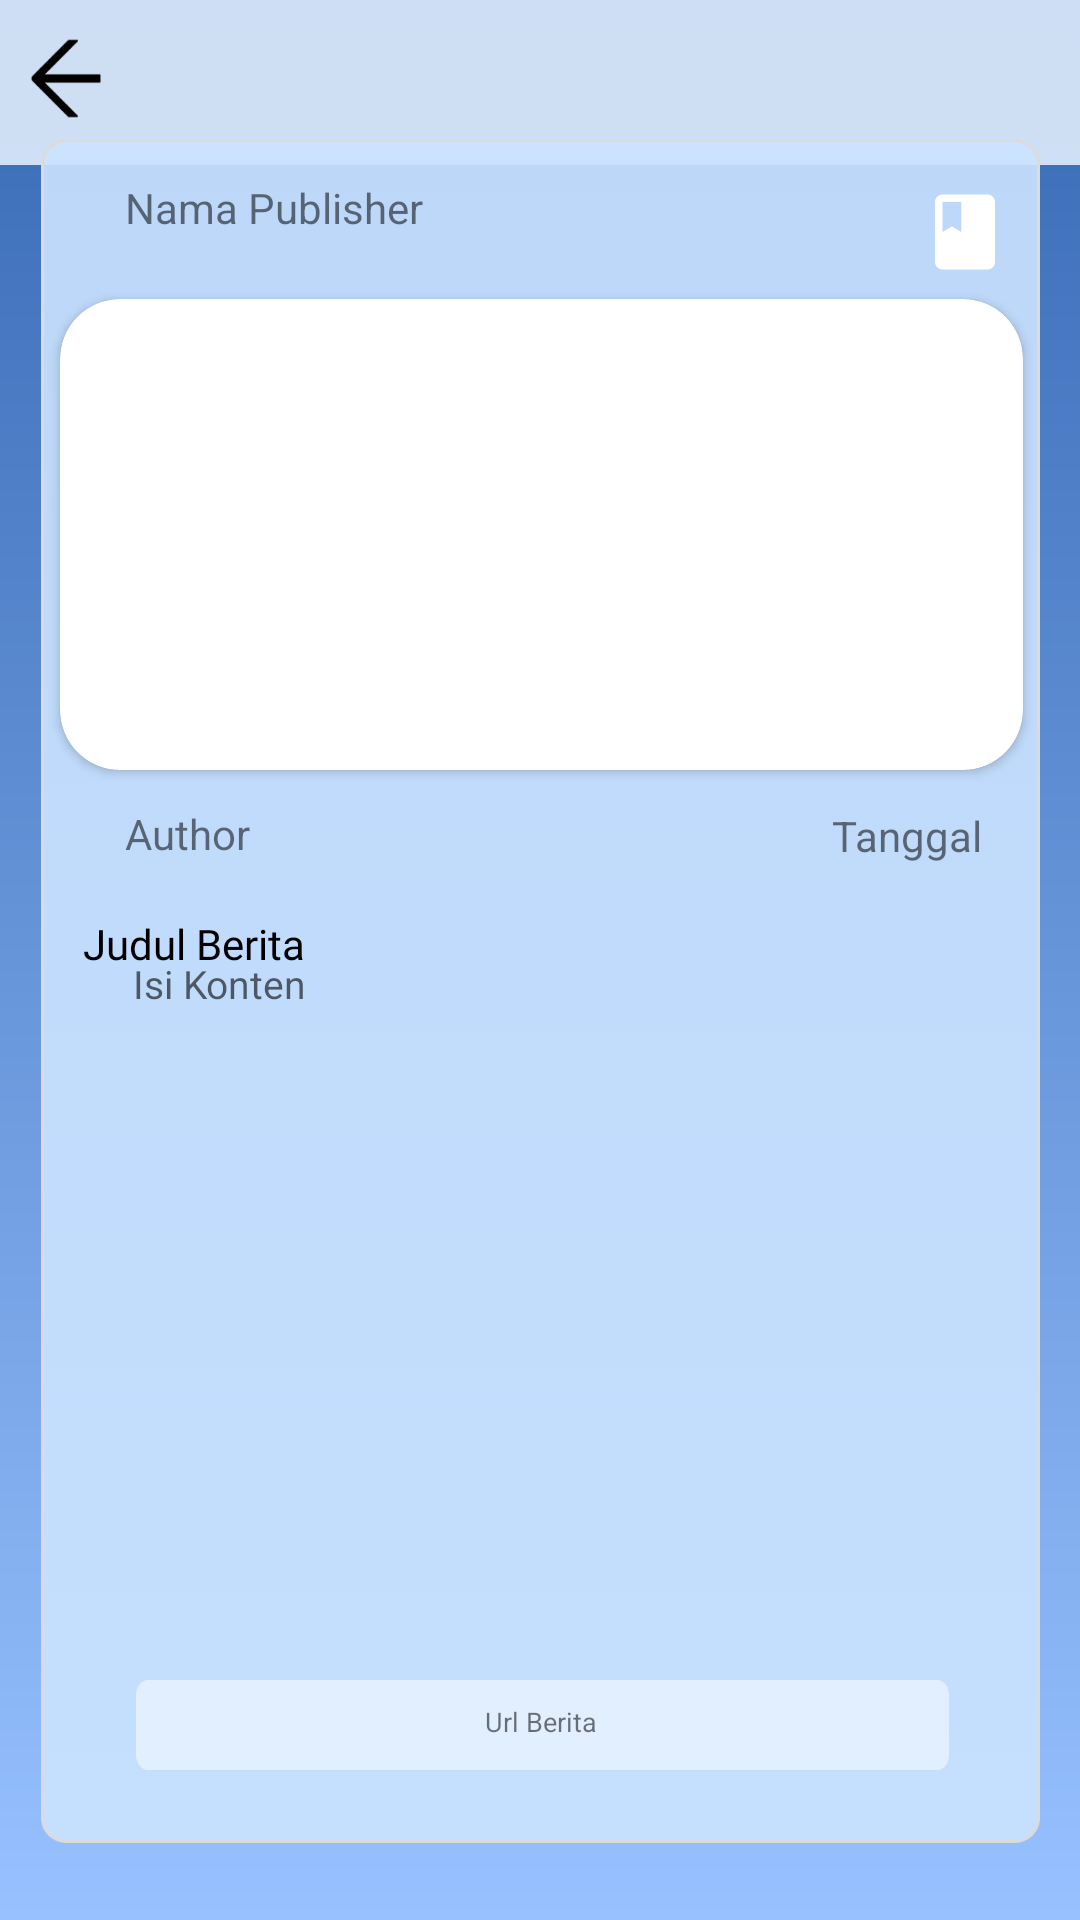

Point at icon controls on the screen. Image size 1080w x 1920h, points as (x,y).
bookmark: (965,232)
